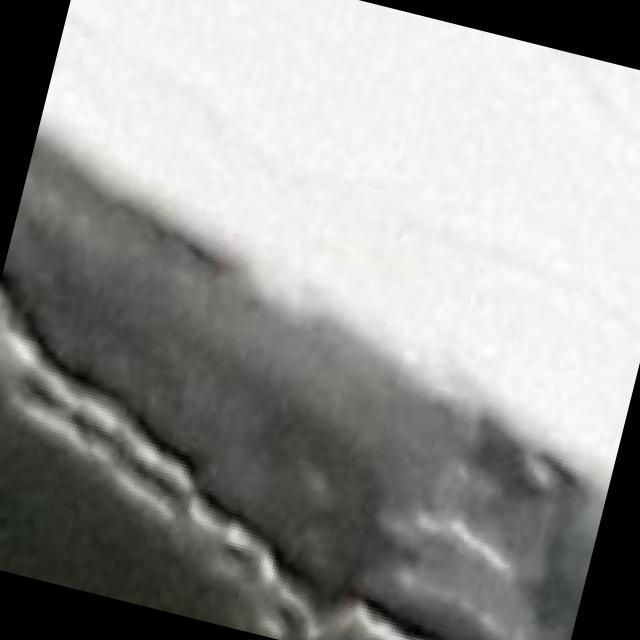crack: (0, 221, 605, 640)
